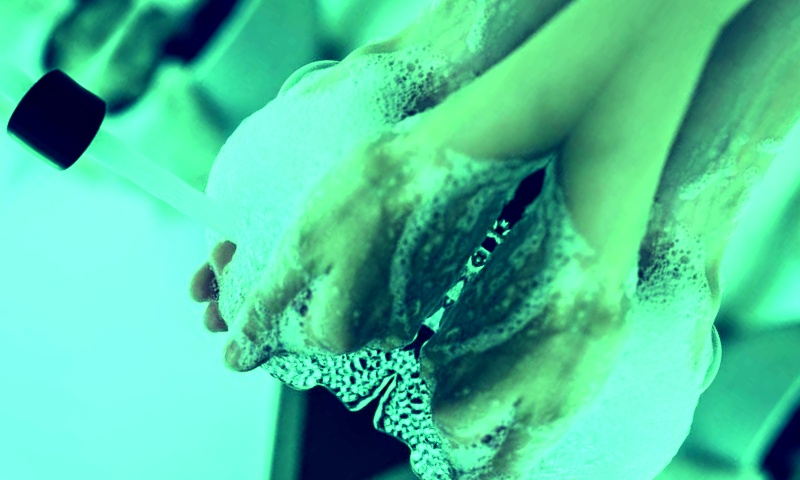washing hand: (0, 0, 514, 479)
